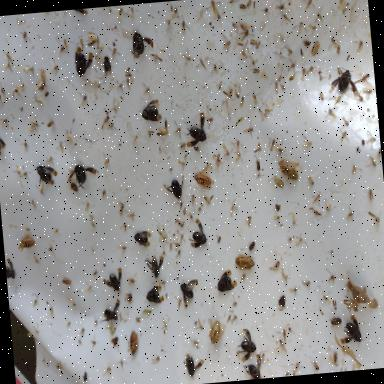pbw: (124, 329, 145, 360), (191, 162, 213, 189), (16, 232, 36, 252), (235, 251, 255, 270), (84, 31, 100, 48), (156, 118, 168, 136), (310, 41, 324, 56), (270, 174, 284, 188), (31, 94, 44, 108), (35, 78, 48, 92), (222, 86, 234, 98), (38, 68, 48, 82), (274, 144, 284, 156), (204, 193, 214, 204), (125, 66, 133, 78), (46, 119, 56, 128), (253, 142, 262, 152), (61, 278, 72, 286), (111, 336, 119, 346), (332, 298, 338, 310), (302, 38, 311, 46), (337, 66, 343, 76), (250, 38, 258, 45), (256, 40, 262, 49), (216, 234, 221, 244), (246, 0, 252, 8), (336, 44, 341, 53), (253, 68, 260, 74), (240, 3, 246, 10), (240, 274, 246, 281), (182, 208, 187, 216), (136, 316, 142, 322)
